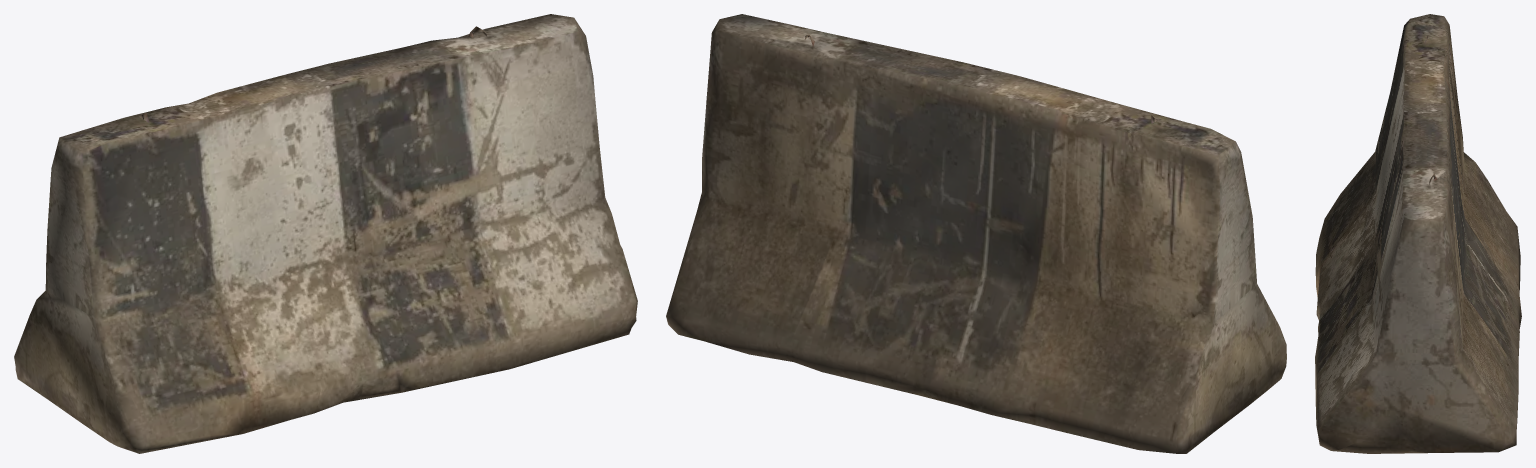
File: concrete_road_barrier.glb
3 views of the same model, side by side, from view 1: azimuth 30°, elevation 25°; view 2: azimuth 150°, elevation 25°; view 3: azimuth 270°, elevation 25° (orthographic). The views are drawn at different scales.
Parts seen in each view (by area): view 1: concrete_road_barrier; view 2: concrete_road_barrier; view 3: concrete_road_barrier.
Part boxes in pixels (x1=…): concrete_road_barrier: x1=14, y1=14, x2=637, y2=453; concrete_road_barrier: x1=666, y1=14, x2=1286, y2=453; concrete_road_barrier: x1=1315, y1=14, x2=1521, y2=453.
Bounding box in the file's own units: 1.54 × 0.8277 × 0.6336.
1 material, 1 textured.
